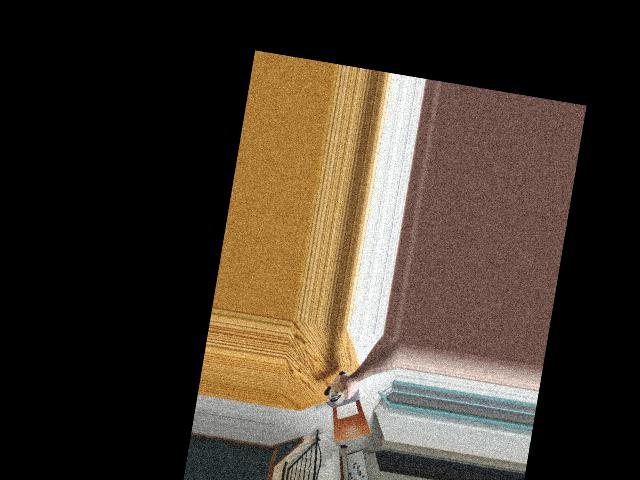cheese: (322, 366, 360, 407)
